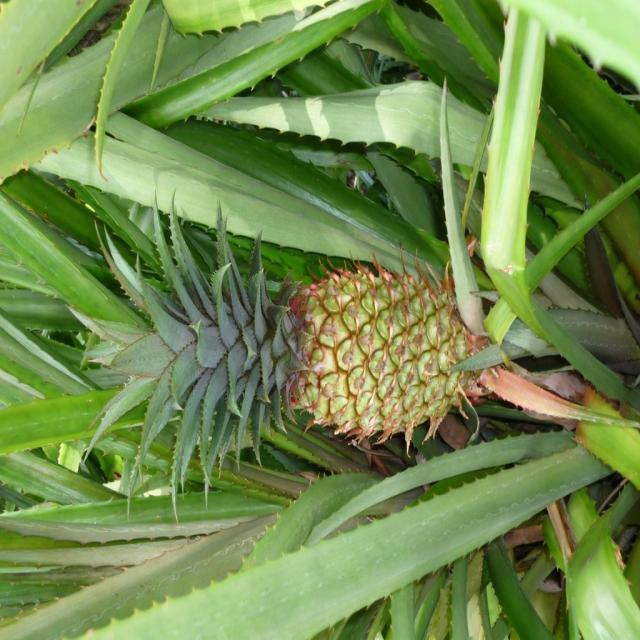Pineapple: (65, 190, 472, 526)
